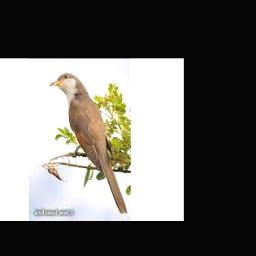Cuckoo: (50, 72, 128, 214)
